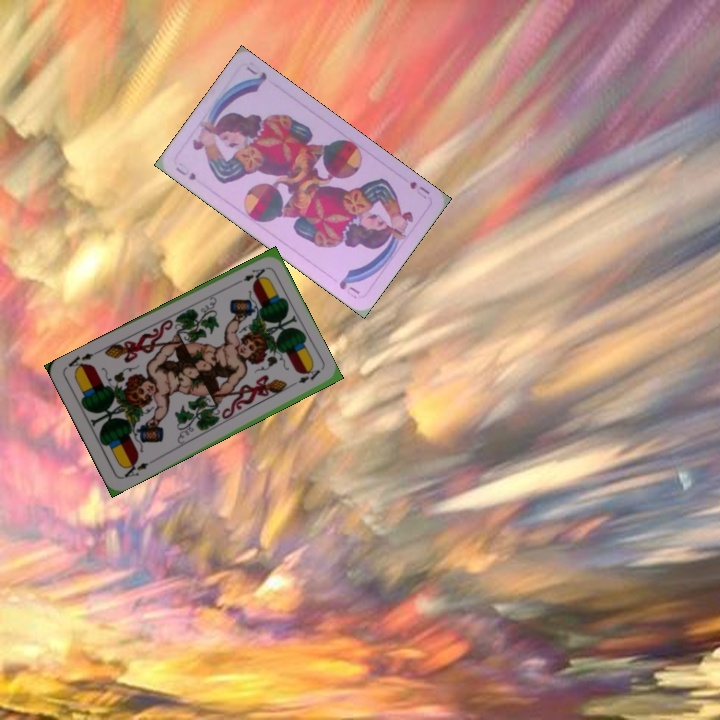EA: (118, 456, 156, 481), (239, 264, 268, 284)
SU: (405, 177, 432, 202), (171, 162, 199, 183)
